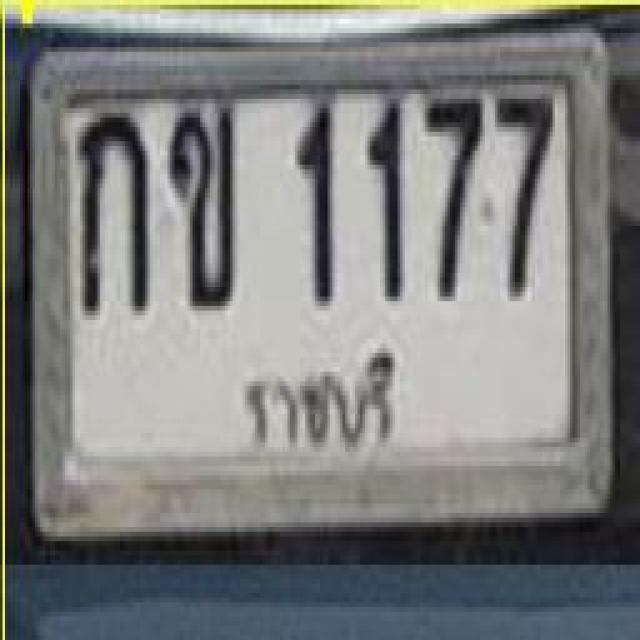license_plate: (29, 42, 614, 530)
